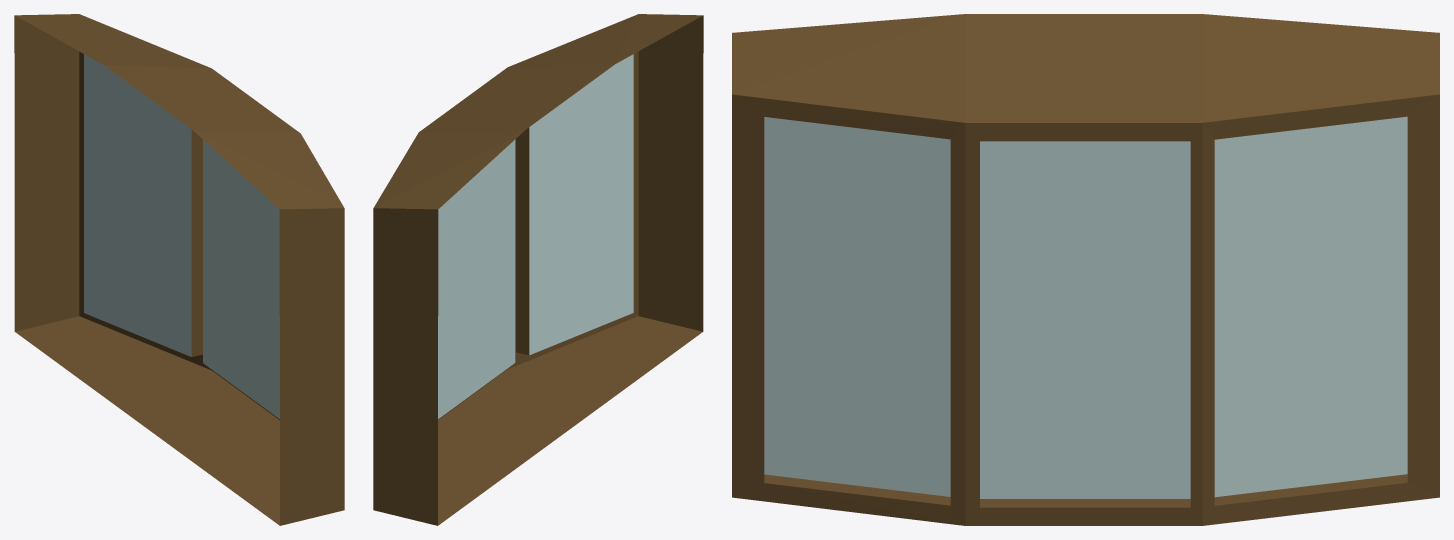
File: window_2_6.fbx
3 renders of one model, left to right at view 1: azimuth 30°, elevation 25°; view 2: azimuth 150°, elevation 25°; view 3: azimuth 270°, elevation 25°, orthographic. The views are drawn at different scales.
Visible parts, largest first — view 1: window_2_6; view 2: window_2_6; view 3: window_2_6.
Part boxes in pixels (x1=…): window_2_6: x1=14, y1=14, x2=344, y2=525; window_2_6: x1=373, y1=14, x2=703, y2=525; window_2_6: x1=732, y1=14, x2=1439, y2=525.
Size of the model in its own units: 82.66 by 241 by 350.
